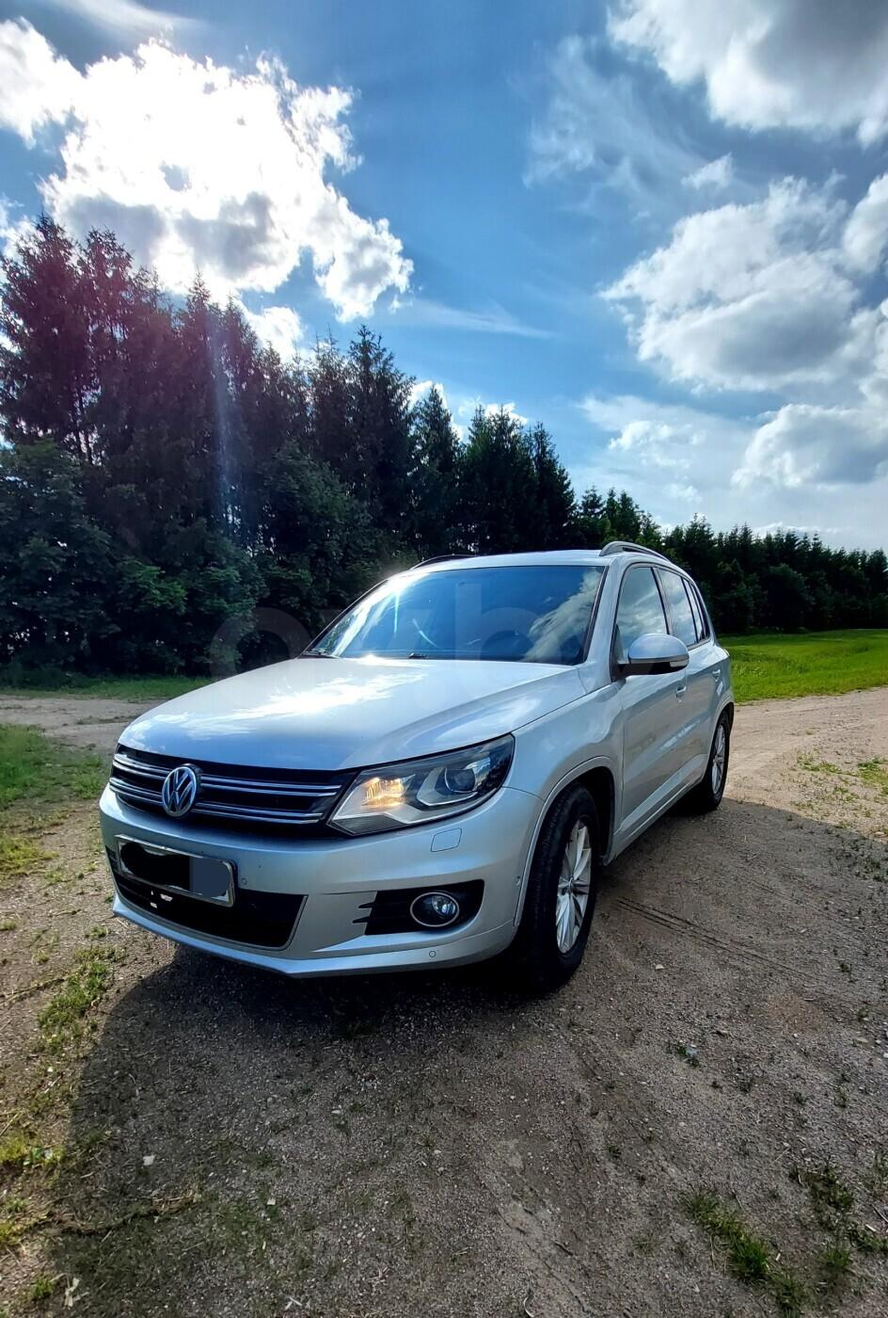Tiguan_2011-2018: (100, 546, 743, 1017)
